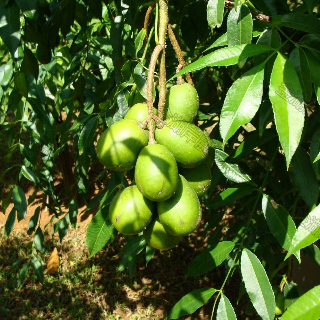coc: (135, 143, 178, 202)
